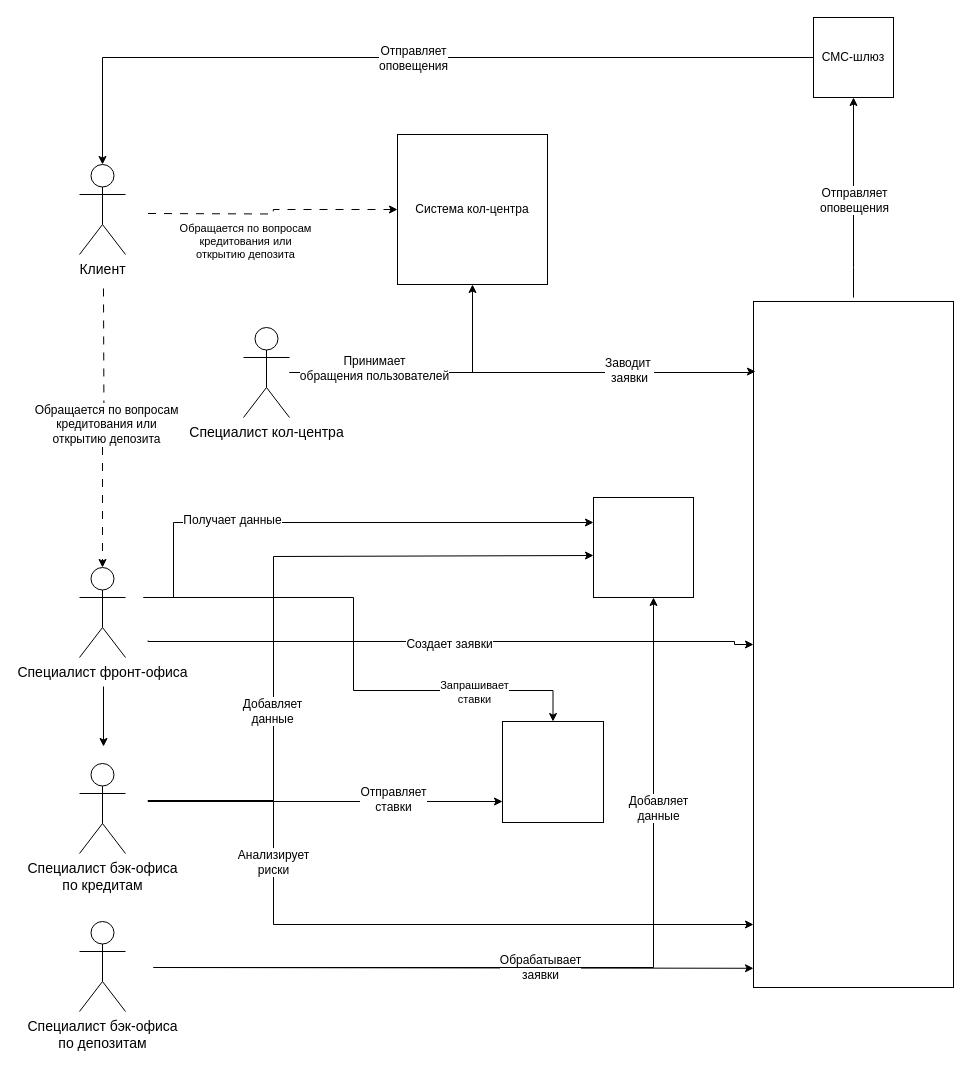
The diagram is 971 pixels wide and 1070 high, and some of its shapes have lost their labels. The centre of each missing label's shape, as x and y in pixels:
Email: the point at 553,771
Excel: the point at 643,547
АБС: the point at 853,644
